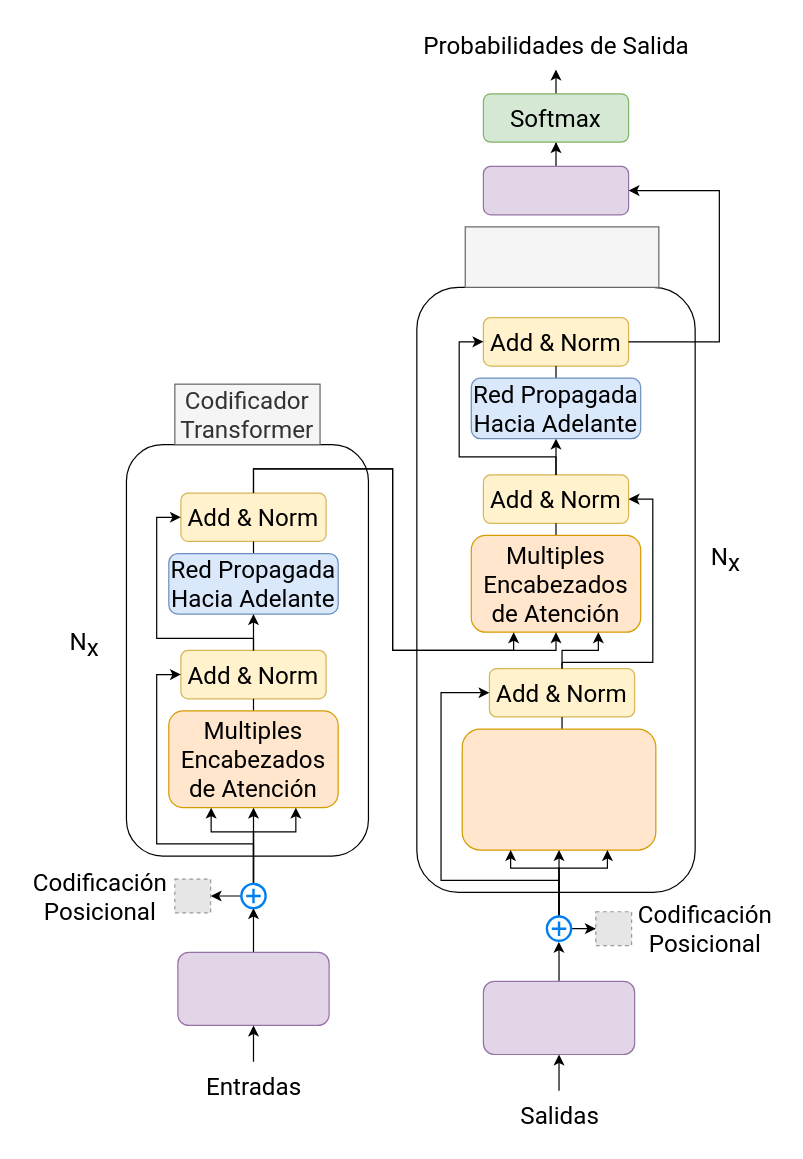
The diagram is 803 pixels wide and 1159 high, and some of its shapes have lost their labels. Grey dashed boxes stand in for pictures. Each missing label, with the centre of its shape:
"Decodificador Transformer" goes at (561,256).
"Incrustación de Entrada" goes at (253,988).
"Incrustador de Salida" goes at (558,1017).
"Lineal" goes at (555,190).
"Multiples Encabezados de Atención Enmascaradas" goes at (558,789).
